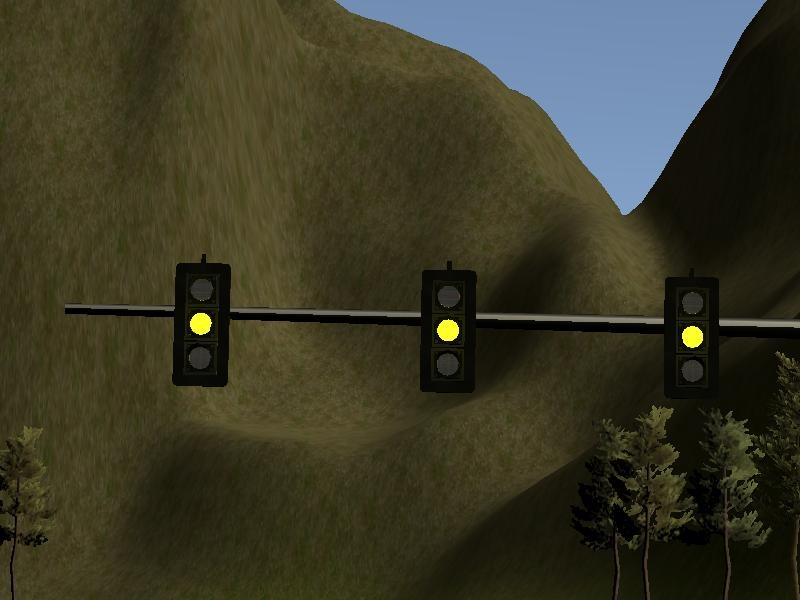YELLOW: (172, 265, 230, 388), (418, 267, 476, 390), (663, 273, 721, 396)
